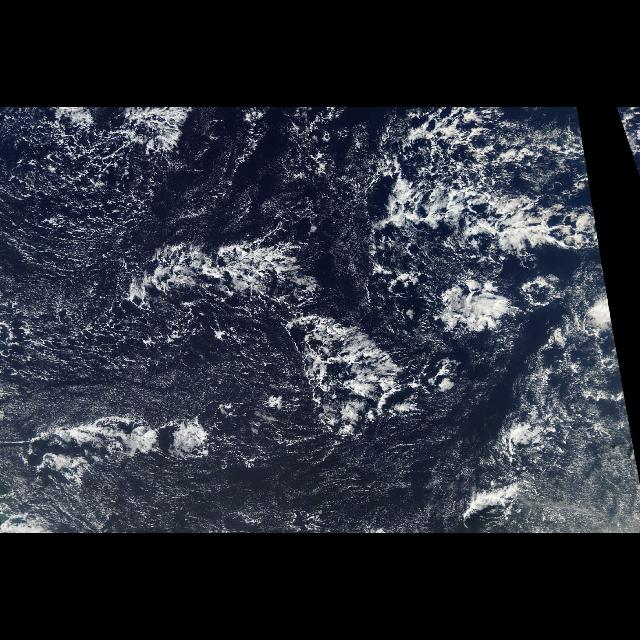Gravel: (1, 109, 570, 477)
Sugar: (100, 449, 634, 527), (8, 284, 290, 421)
